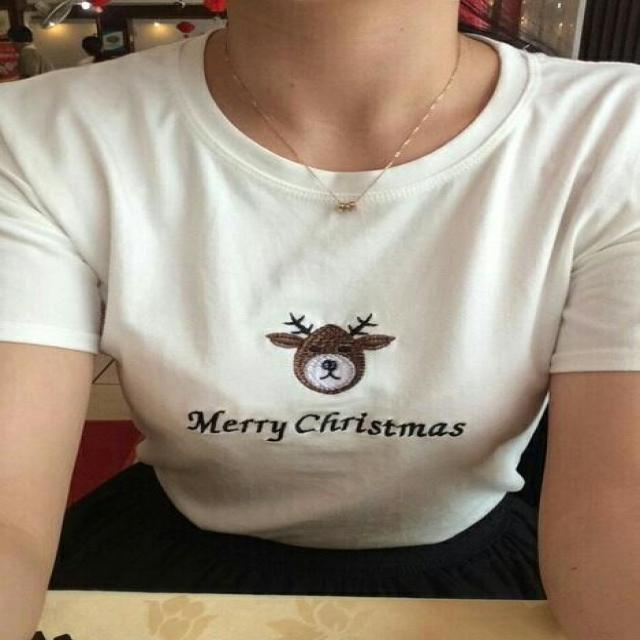short sleeve top: (0, 39, 637, 547)
